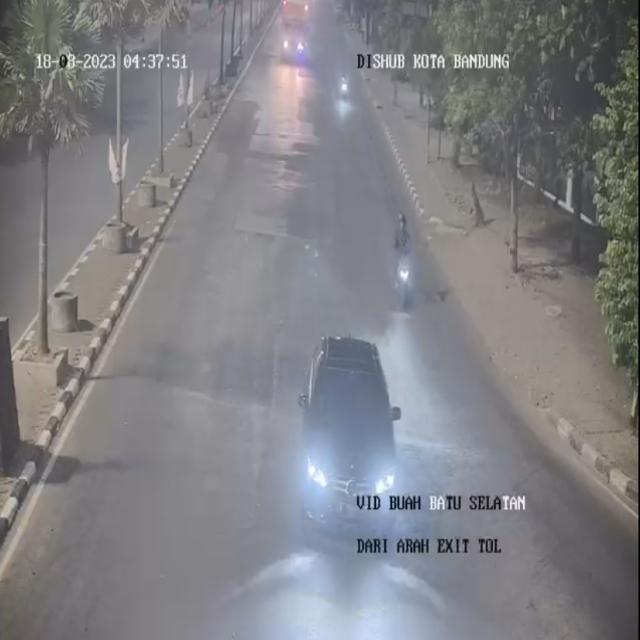cars: (299, 325, 409, 553), (278, 16, 311, 73)
motorcycle: (384, 205, 414, 318), (334, 68, 358, 112)
